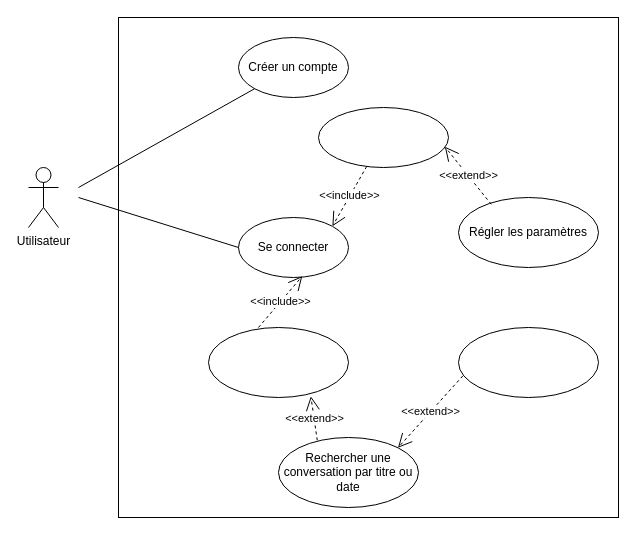
Some shapes in this 636 by 535 pixel diagram are drawn without their labels. Here are the shapes that lost their labels. From the top down, the centre of each, then its label:
(383,137): Démarrer une conversation
(278,362): Voir l'historique des conversations
(528,362): Reprendre une conversation
